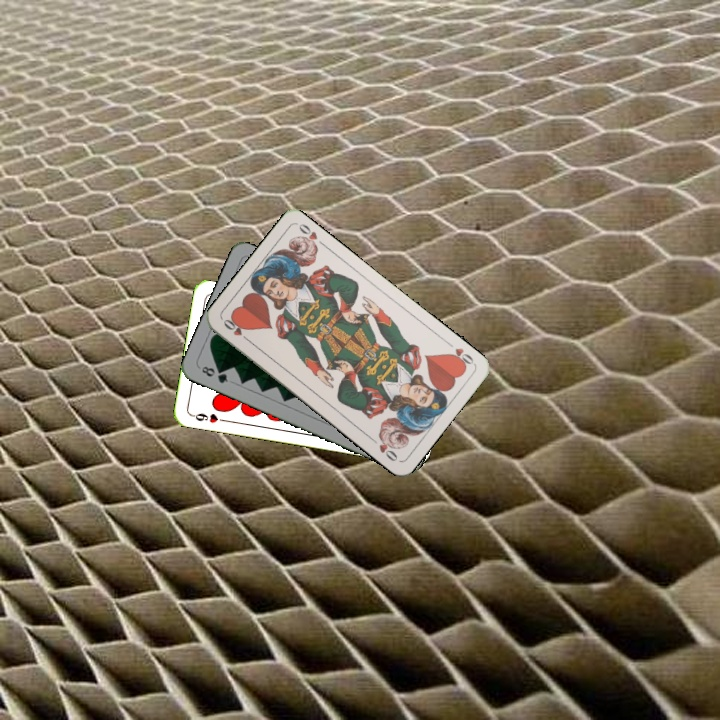G8: (197, 362, 231, 386)
H9: (188, 409, 228, 425)
HO: (219, 315, 254, 345), (444, 344, 476, 371)
